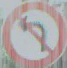Don't turn left: (6, 0, 58, 61)
